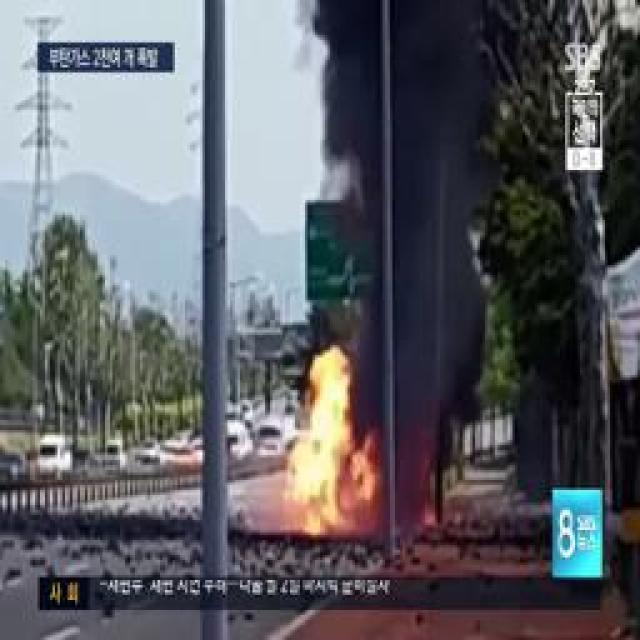Fire: (289, 356, 353, 539)
